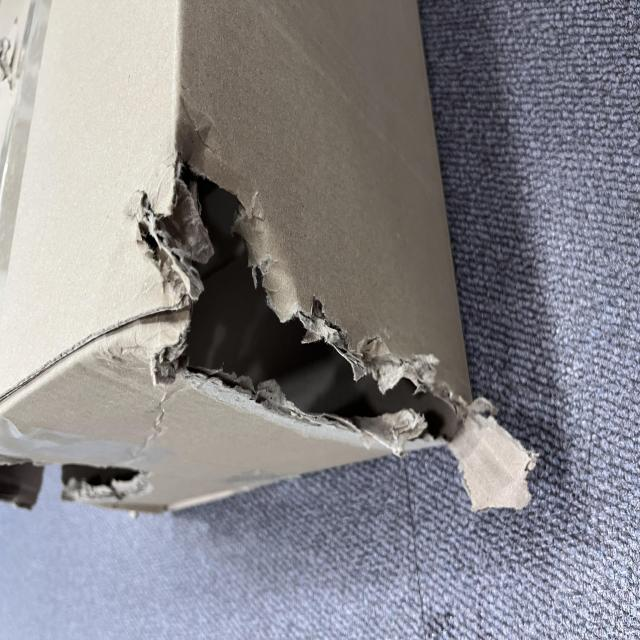damaged: (152, 214, 354, 610)
